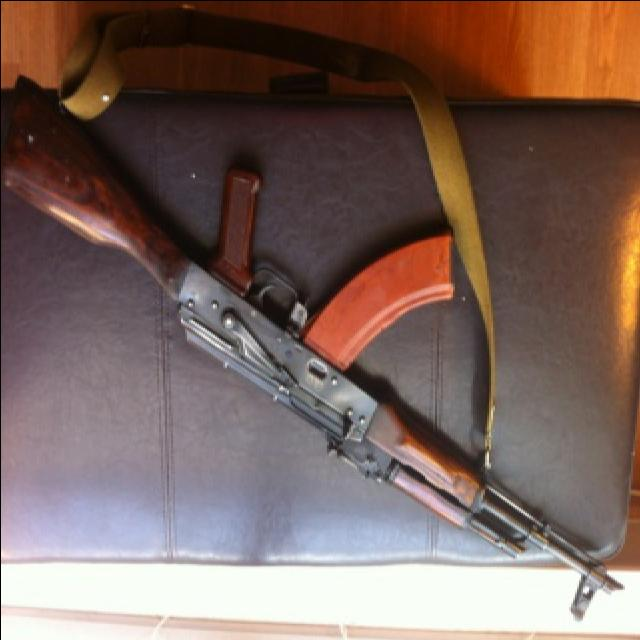rifle: (1, 126, 629, 628)
